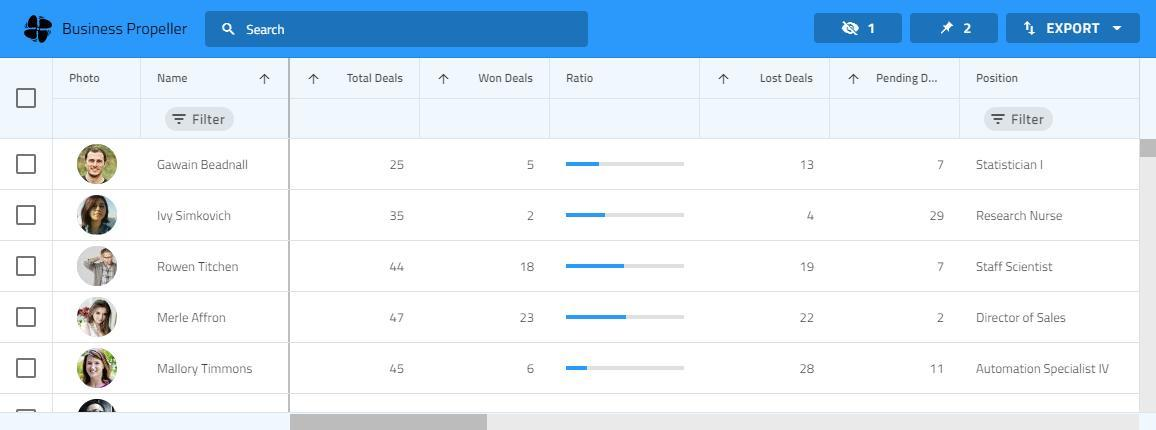button: (814, 11, 905, 47), (909, 12, 1002, 46), (983, 106, 1057, 131), (163, 108, 236, 131)
checkbox: (16, 308, 37, 328), (16, 155, 37, 174), (18, 206, 37, 226), (18, 359, 37, 379), (18, 90, 37, 109), (18, 258, 37, 276)
dropdown: (1005, 12, 1143, 44)
input: (207, 12, 588, 49)
label: (346, 71, 409, 88), (758, 70, 817, 88), (477, 72, 538, 88), (875, 72, 940, 87), (66, 72, 106, 87), (977, 73, 1019, 86), (157, 72, 193, 87), (563, 72, 598, 85)
table: (2, 61, 1139, 395)
